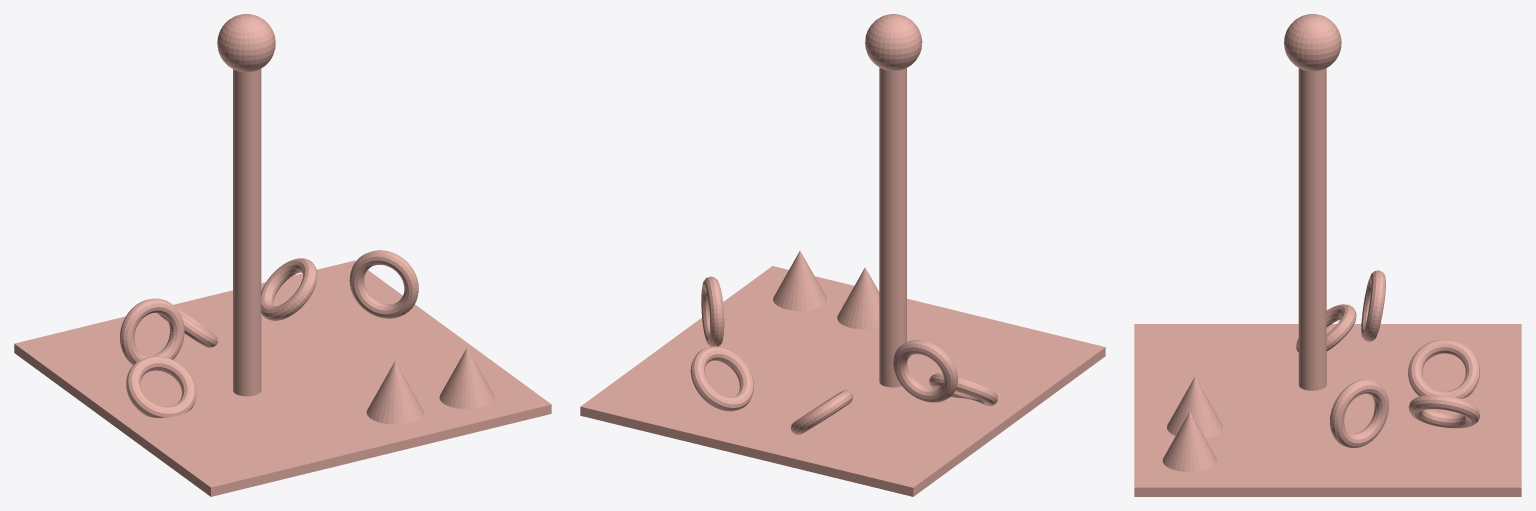
3 renders of one model, left to right at view 1: azimuth 30°, elevation 25°; view 2: azimuth 150°, elevation 25°; view 3: azimuth 270°, elevation 25°, orthographic. The views are drawn at different scales.
Visible parts, largest first — view 1: トーラス.001; view 2: トーラス.001; view 3: トーラス.001.
Part boxes in pixels (bbox=[...]): トーラス.001: bbox=[14, 14, 551, 496]; トーラス.001: bbox=[580, 14, 1105, 496]; トーラス.001: bbox=[1134, 14, 1521, 496].
Size of the model in its own units: 13.42 by 14.42 by 13.42.
